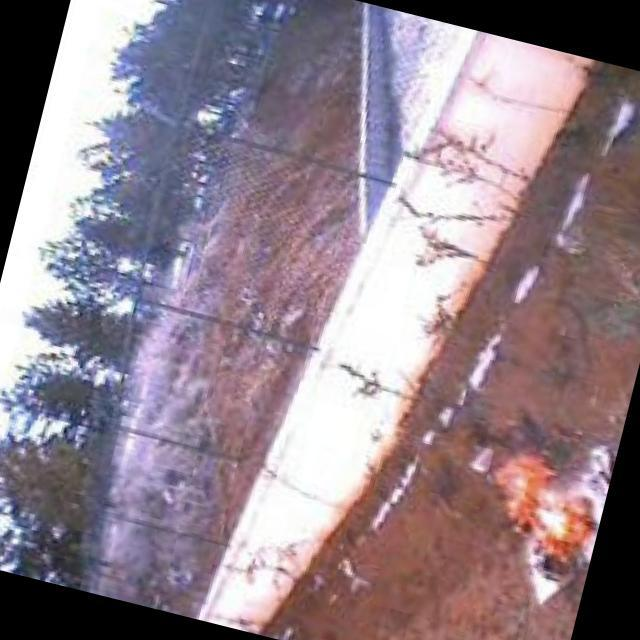Fire: (470, 445, 613, 595)
